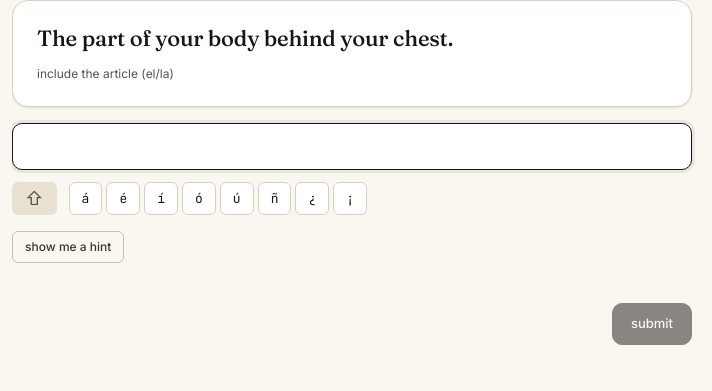
VocabExercise — article nouns and giving up › bases the first-letter hint on the bare word, not the article
Click the button "show me a hint".
click(68, 247)  # box [12,231,124,263]
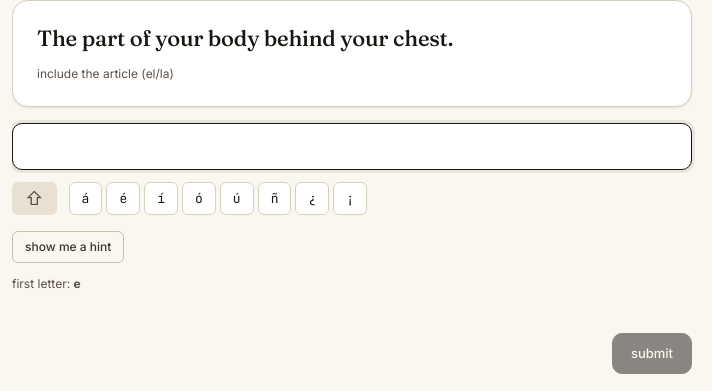
Now the text "e" is shown, box [74,276,81,291]
